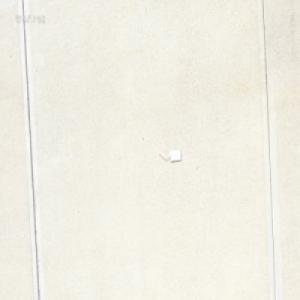LuggageTag: (156, 147, 181, 163)
